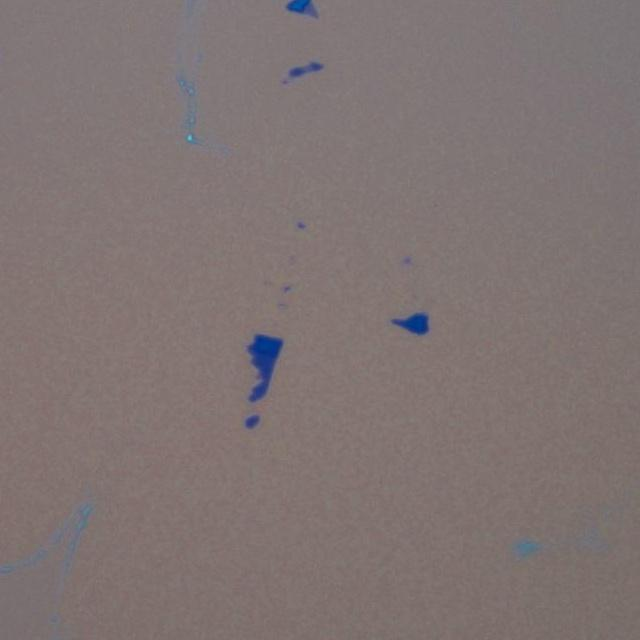monolayer-eWW4: (302, 2, 318, 18), (302, 64, 314, 72)
